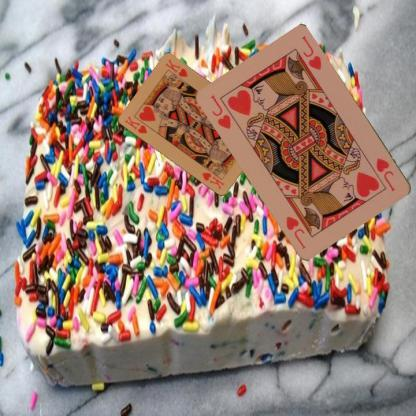Jh: (208, 92, 242, 130), (373, 155, 398, 193)
Kh: (122, 112, 148, 134)
